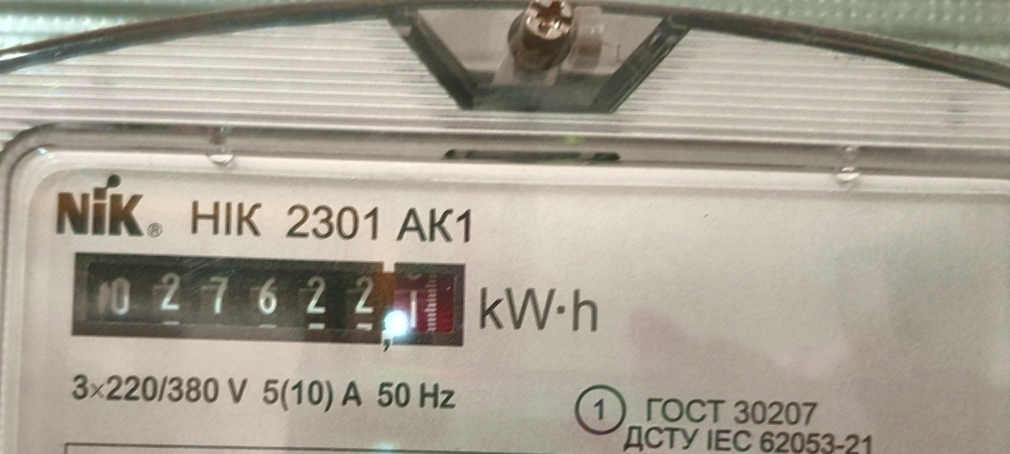0: (107, 273, 134, 317)
1: (405, 286, 422, 330)
2: (303, 273, 329, 315), (158, 270, 183, 313), (353, 272, 377, 315)
6: (256, 274, 280, 316)
7: (206, 273, 231, 317)
screen: (59, 237, 481, 359)
